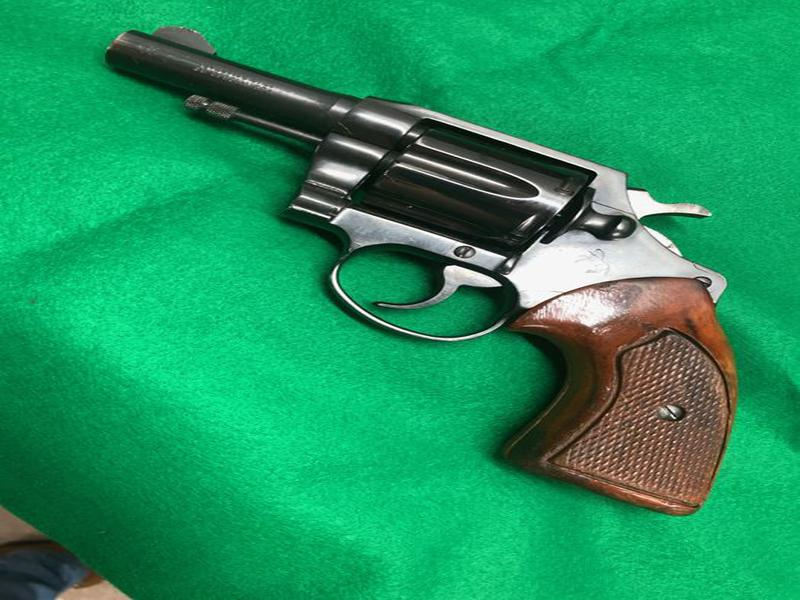Revolver: (92, 15, 764, 530)
